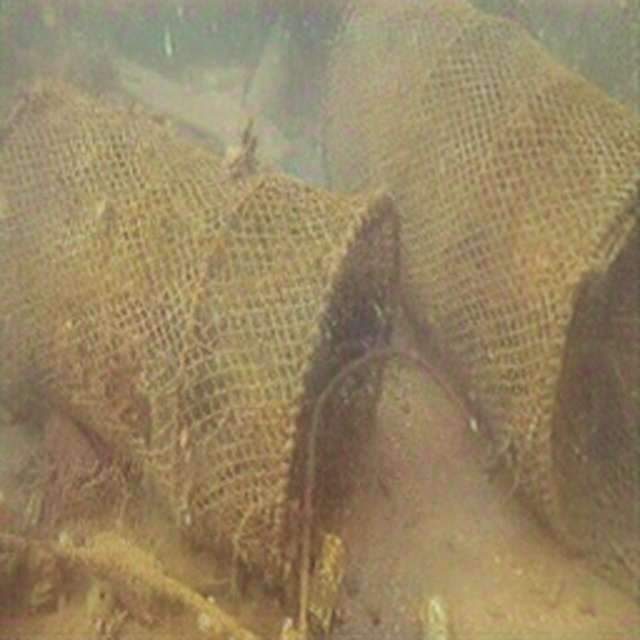mine: (0, 75, 400, 595), (320, 0, 639, 561)
